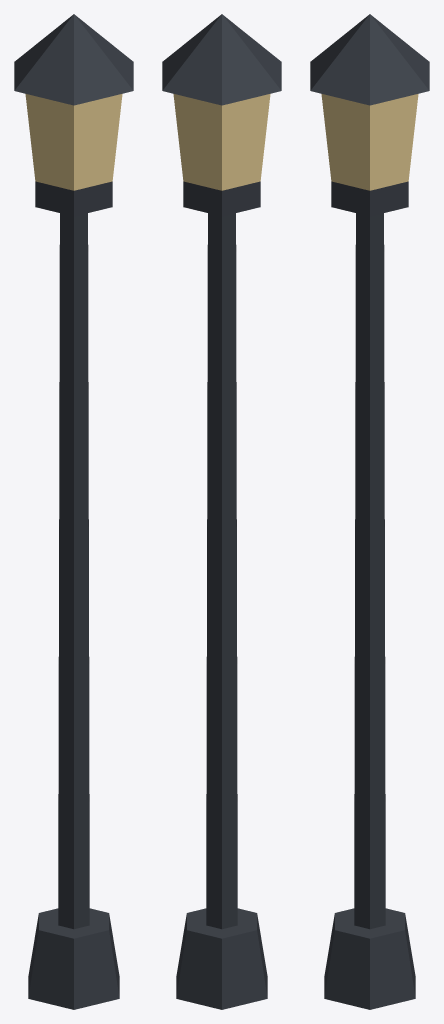
Rendered from P_Lamp2.fbx.
3 views of the same model, side by side, from view 1: azimuth 90°, elevation 25°; view 2: azimuth 210°, elevation 25°; view 3: azimuth 270°, elevation 25° (orthographic).
Visible parts, largest first — view 1: P_Lamp2; view 2: P_Lamp2; view 3: P_Lamp2.
Part boxes in pixels (box(x1,y1,x2,y2)): P_Lamp2: box(14, 14, 133, 1009); P_Lamp2: box(162, 14, 281, 1009); P_Lamp2: box(310, 14, 429, 1009).
Bounding box in the file's own units: 0.34 × 2.65 × 0.2944.
